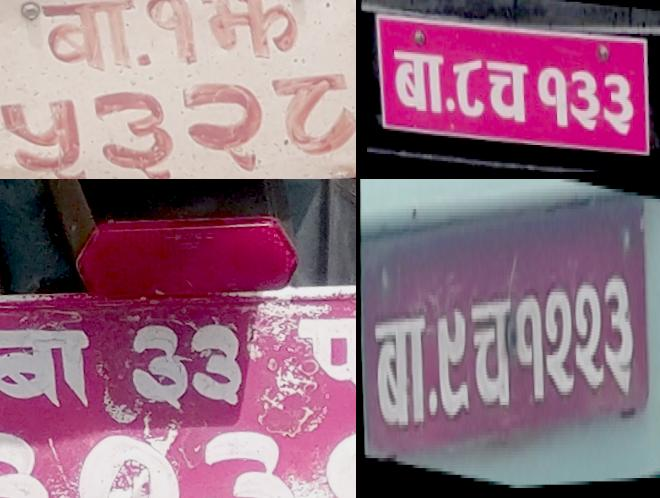0: (55, 425, 185, 498)
1: (509, 278, 546, 420), (134, 0, 203, 73), (300, 410, 356, 498), (528, 62, 570, 138)
2: (171, 76, 267, 177), (540, 277, 578, 408), (570, 274, 607, 408)
3: (180, 419, 302, 498), (79, 88, 179, 179), (112, 317, 196, 417), (177, 317, 254, 417), (598, 265, 639, 413), (0, 420, 56, 498), (595, 71, 637, 142), (564, 66, 603, 138)
5: (0, 90, 91, 179)
8: (257, 68, 356, 165), (445, 52, 488, 120)
9: (431, 301, 472, 432)
ba: (370, 296, 434, 456), (0, 316, 97, 416), (34, 0, 140, 75), (384, 43, 448, 119)
cha: (466, 280, 516, 429), (479, 54, 532, 127)
jha: (188, 0, 306, 68)
pa: (279, 310, 356, 417)
